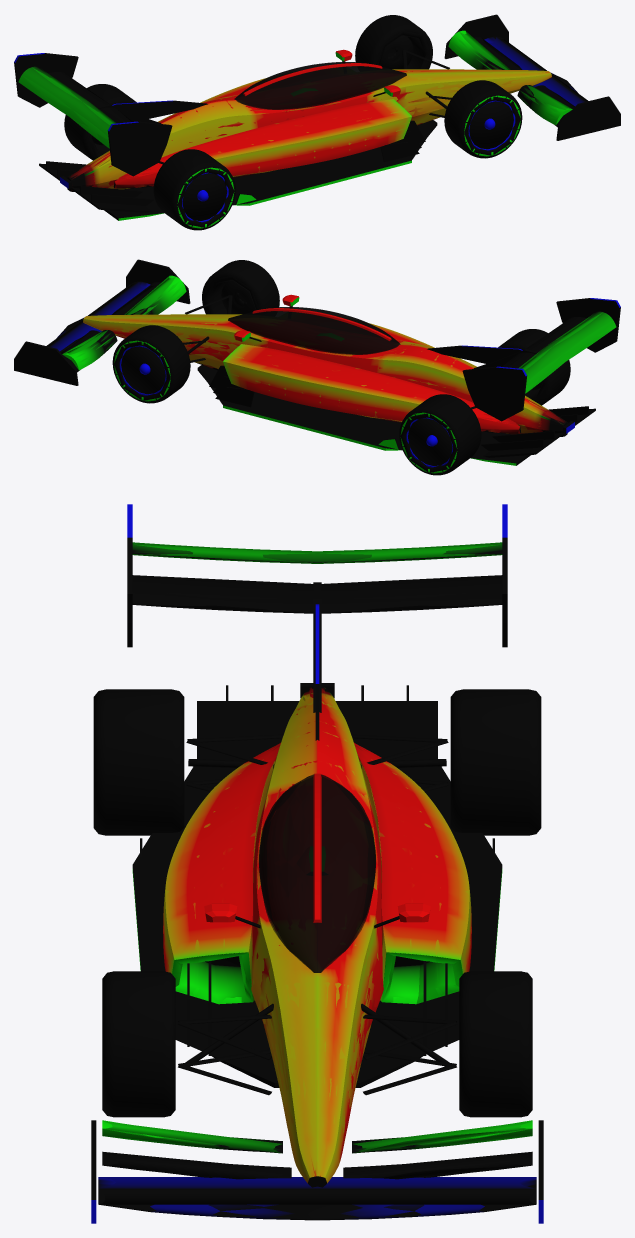
Rendered from vortex.glb.
3 renders of one model, top to bottom at view 1: azimuth 30°, elevation 25°; view 2: azimuth 150°, elevation 25°; view 3: azimuth 270°, elevation 25°, orthographic. The views are drawn at different scales.
Visible parts, largest first — view 1: body_L0, glass_L0, body_L2, glass_L1, body_L1, wheel_RR_L0, wheel_FL_L0, wheel_RR_L2, wheel_FR_L0, wheel_FR_L2, wheel_RL_L0, glass_L2 (+4 smaller); view 2: body_L0, body_L2, glass_L0, glass_L1, body_L1, wheel_RL_L0, wheel_FR_L0, wheel_RL_L2, wheel_FL_L0, wheel_FL_L2, wheel_RR_L0, glass_L2 (+4 smaller); view 3: body_L0, body_L2, glass_L0, glass_L1, body_L1, wheel_RL_L0, wheel_RR_L0, wheel_FL_L0, wheel_FR_L0, wheel_RR_L1, wheel_RL_L1, wheel_FL_L1 (+2 smaller).
Part boxes in pixels (bbox=[...]): body_L0: bbox=[14, 14, 620, 220]; glass_L0: bbox=[234, 62, 406, 109]; body_L2: bbox=[20, 31, 588, 191]; glass_L1: bbox=[235, 62, 406, 109]; body_L1: bbox=[58, 31, 578, 191]; wheel_RR_L0: bbox=[153, 149, 235, 230]; wheel_FL_L0: bbox=[355, 15, 432, 69]; wheel_RR_L2: bbox=[177, 168, 234, 227]; wheel_FR_L0: bbox=[444, 80, 522, 158]; wheel_FR_L2: bbox=[464, 96, 520, 155]; wheel_RL_L0: bbox=[64, 84, 136, 160]; glass_L2: bbox=[237, 63, 404, 97]; body_L0: bbox=[14, 259, 620, 465]; body_L2: bbox=[46, 276, 614, 436]; glass_L0: bbox=[228, 307, 400, 354]; glass_L1: bbox=[228, 307, 399, 354]; body_L1: bbox=[56, 276, 576, 434]; wheel_RL_L0: bbox=[399, 394, 481, 475]; wheel_FR_L0: bbox=[202, 260, 279, 314]; wheel_RL_L2: bbox=[400, 413, 457, 472]; wheel_FL_L0: bbox=[112, 325, 190, 403]; wheel_FL_L2: bbox=[114, 341, 170, 400]; wheel_RR_L0: bbox=[498, 329, 570, 405]; glass_L2: bbox=[230, 308, 397, 342]; body_L0: bbox=[91, 504, 543, 1223]; body_L2: bbox=[98, 544, 536, 1204]; glass_L0: bbox=[259, 774, 375, 972]; glass_L1: bbox=[259, 775, 375, 972]; body_L1: bbox=[103, 555, 531, 1219]; wheel_RL_L0: bbox=[450, 689, 541, 835]; wheel_RR_L0: bbox=[93, 689, 184, 835]; wheel_FL_L0: bbox=[459, 971, 532, 1117]; wheel_FR_L0: bbox=[102, 971, 175, 1117]; wheel_RR_L1: bbox=[93, 692, 184, 835]; wheel_RL_L1: bbox=[450, 692, 541, 835]; wheel_FL_L1: bbox=[459, 973, 532, 1117].
Size of the model in its own units: 5.43 by 1.24 by 2.1.
